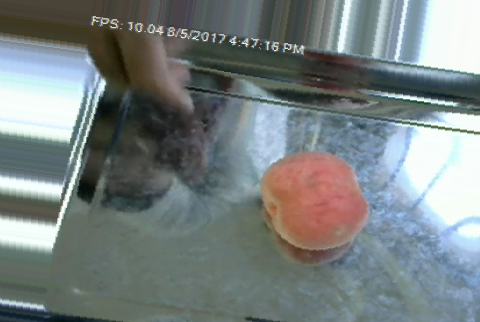Peach: (260, 152, 367, 249)
